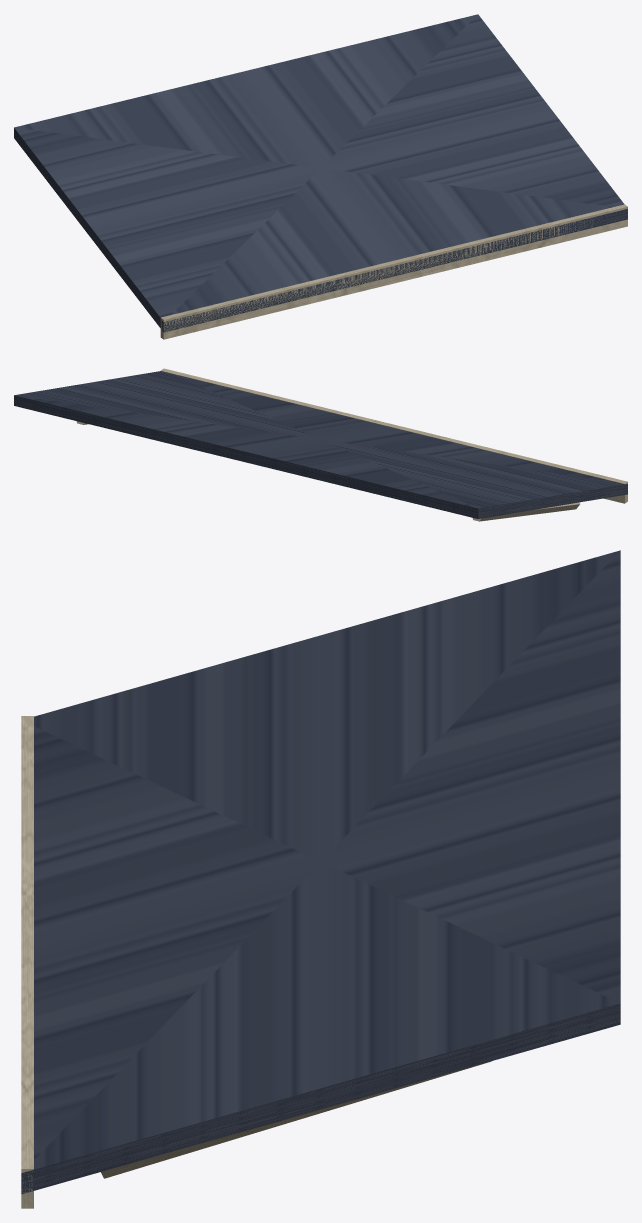
Rendered from porch_canopy.glb.
3 views of the same model, one above another, from view 1: azimuth 30°, elevation 25°; view 2: azimuth 150°, elevation 25°; view 3: azimuth 270°, elevation 25° (orthographic). The views are drawn at different scales.
Visible parts, largest first — view 1: outdoor_porch_canopy; view 2: outdoor_porch_canopy; view 3: outdoor_porch_canopy.
Boxes of the visible parts, x1=… form: outdoor_porch_canopy: x1=14, y1=14, x2=627, y2=339; outdoor_porch_canopy: x1=14, y1=368, x2=627, y2=521; outdoor_porch_canopy: x1=21, y1=550, x2=620, y2=1208.
Size of the model in its own units: 3.4 by 0.72 by 1.9.
Materials: 1 (1 with a texture image).
